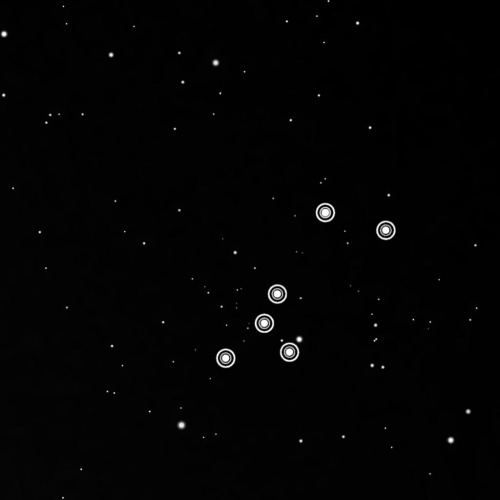canis_major: (207, 197, 402, 376)
